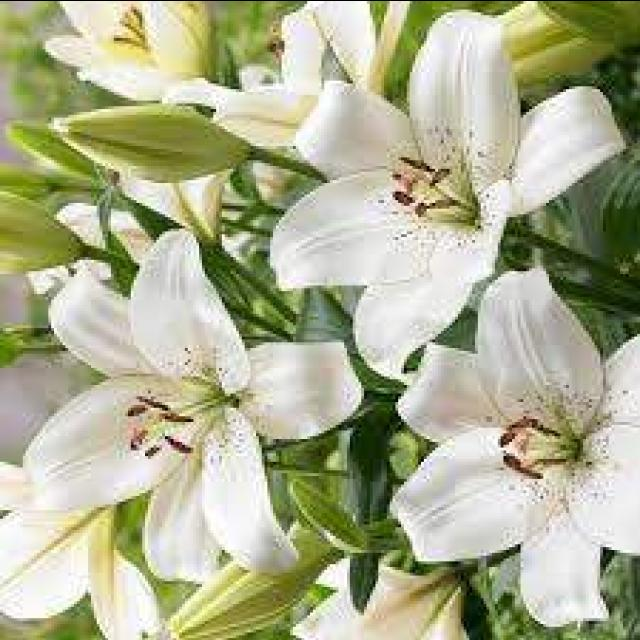lily: (9, 220, 367, 590)
